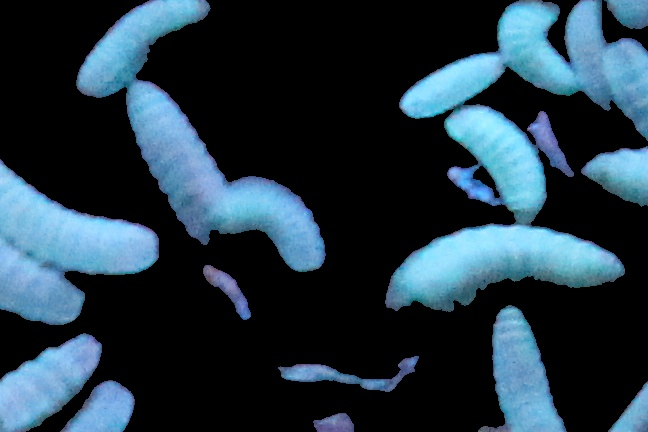larvae: (383, 229, 627, 312), (1, 152, 157, 272), (126, 82, 224, 248), (76, 1, 212, 96), (440, 106, 547, 224), (208, 175, 327, 273), (485, 307, 569, 432), (1, 334, 102, 432), (397, 51, 508, 122), (499, 1, 571, 101), (1, 245, 82, 327), (565, 1, 612, 111), (597, 39, 648, 135), (578, 143, 648, 209), (58, 380, 138, 432)
